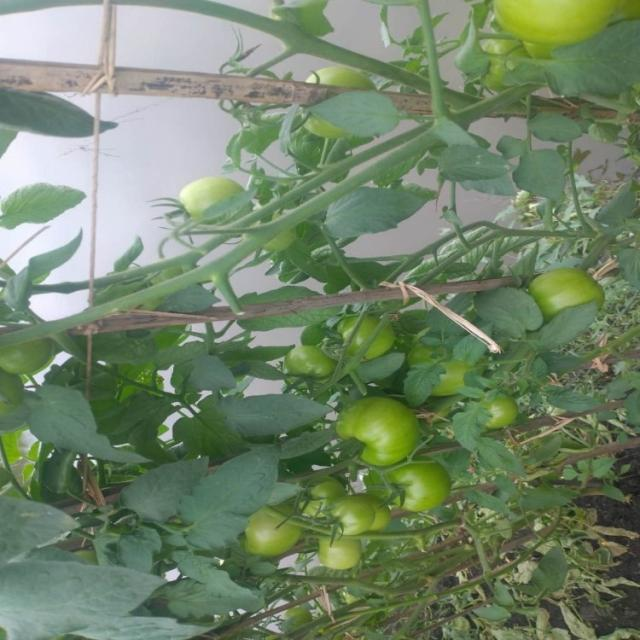tomato: (336, 396, 430, 468), (491, 1, 620, 53), (366, 452, 446, 518), (413, 331, 487, 392), (527, 268, 602, 321), (174, 173, 247, 226), (242, 502, 304, 551), (337, 309, 396, 360), (276, 338, 337, 381), (1, 330, 50, 373), (317, 534, 365, 574), (305, 61, 367, 91), (330, 497, 373, 537), (481, 394, 517, 441), (305, 480, 350, 514)
